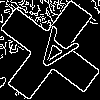A: (25, 25, 80, 82)
